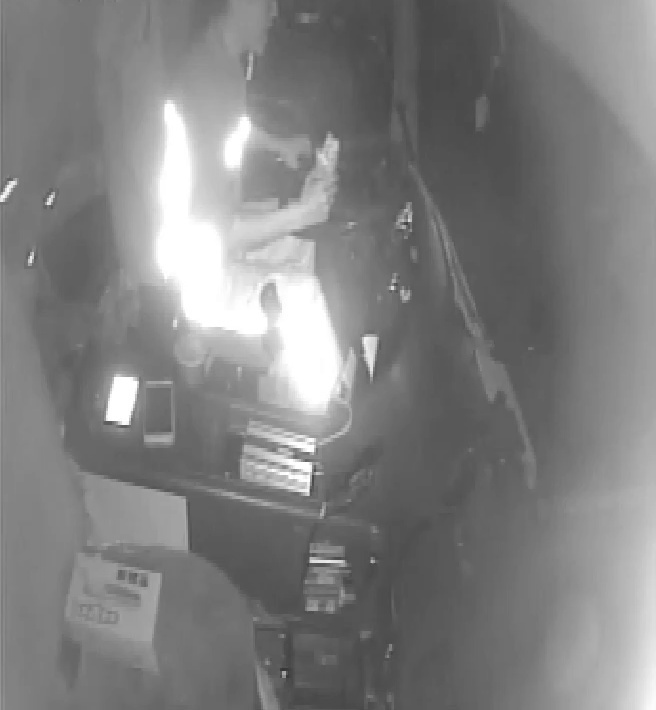cellphone: (101, 372, 140, 429)
